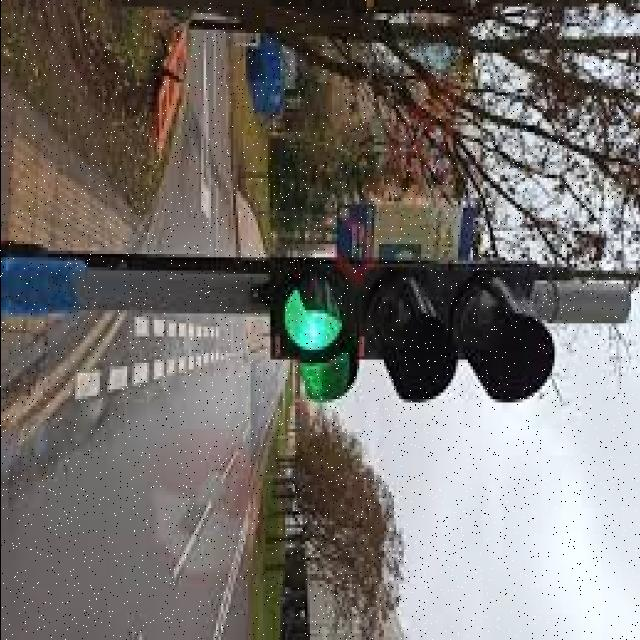green: (263, 257, 541, 393)
